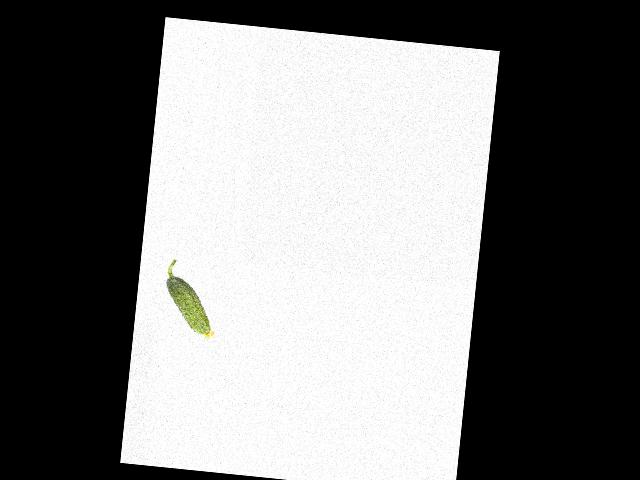cucumber: (160, 259, 222, 339)
